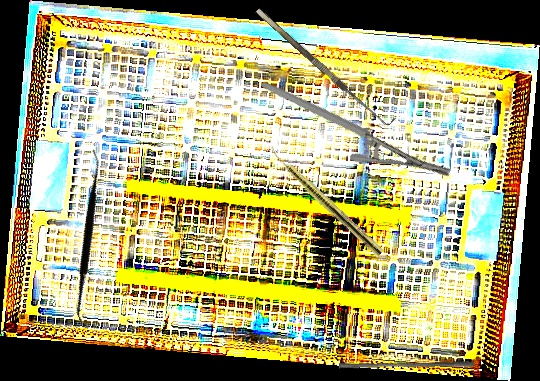Handpiece: (265, 144, 386, 258)
Hook Surgical: (255, 1, 396, 130)
Needle Holder: (260, 31, 454, 226)
Pusher: (338, 355, 475, 374)
Spatula Surgical: (15, 148, 164, 329)
